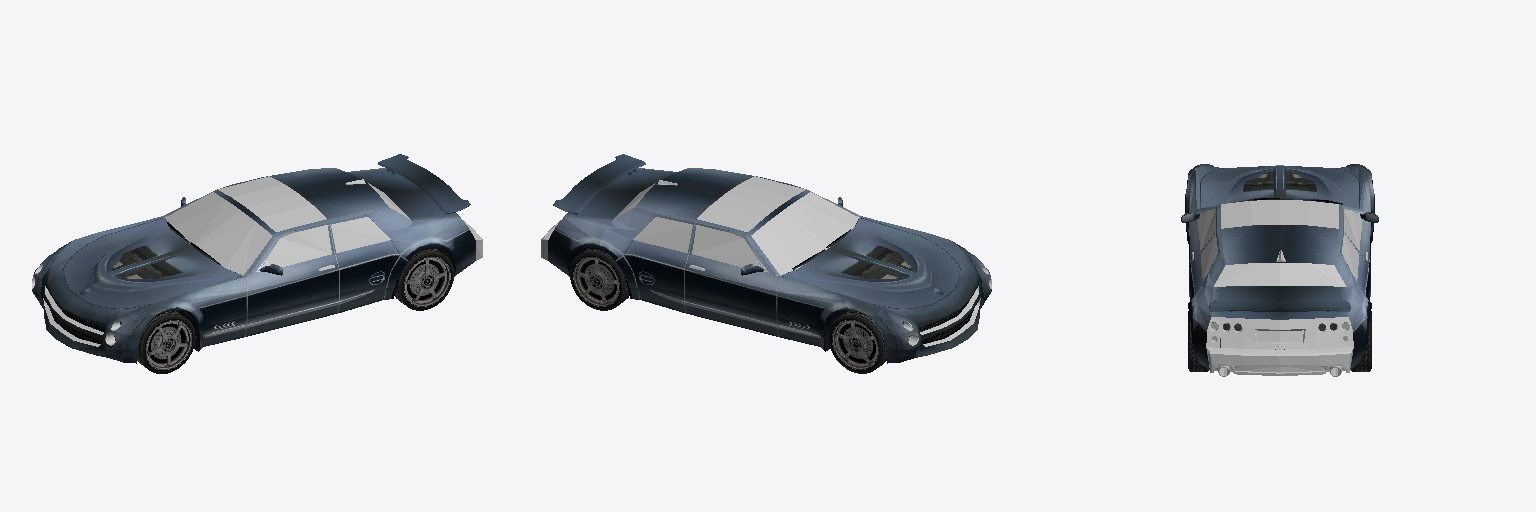
3 views of the same model, side by side, from view 1: azimuth 30°, elevation 25°; view 2: azimuth 150°, elevation 25°; view 3: azimuth 270°, elevation 25° (orthographic).
Parts seen in each view (by area): view 1: Sin_Car_Exterior01a.bmp, Sin_Car_Exterior01a_Alpha.bmp, tire.bmp, Head_Light_Well.bmp, Frame.bmp; view 2: Sin_Car_Exterior01a.bmp, Sin_Car_Exterior01a_Alpha.bmp, tire.bmp, Head_Light_Well.bmp, Frame.bmp; view 3: Sin_Car_Exterior01a.bmp, rear.bmp, Sin_Car_Exterior01a_Alpha.bmp.
Boxes of the visible parts, box(x1,y1,x2,y2) form: Sin_Car_Exterior01a.bmp: box(39, 154, 475, 367); Sin_Car_Exterior01a_Alpha.bmp: box(165, 176, 409, 275); tire.bmp: box(49, 251, 453, 373); Head_Light_Well.bmp: box(32, 249, 154, 363); Frame.bmp: box(32, 264, 334, 346); Sin_Car_Exterior01a.bmp: box(548, 154, 984, 367); Sin_Car_Exterior01a_Alpha.bmp: box(614, 176, 858, 275); tire.bmp: box(570, 251, 974, 373); Head_Light_Well.bmp: box(869, 249, 991, 363); Frame.bmp: box(689, 264, 991, 346); Sin_Car_Exterior01a.bmp: box(1181, 164, 1378, 371); rear.bmp: box(1206, 250, 1353, 376); Sin_Car_Exterior01a_Alpha.bmp: box(1197, 200, 1362, 286).
Bounding box in the file's own units: 5.35 × 1.34 × 2.3.
12 materials, 6 textured.